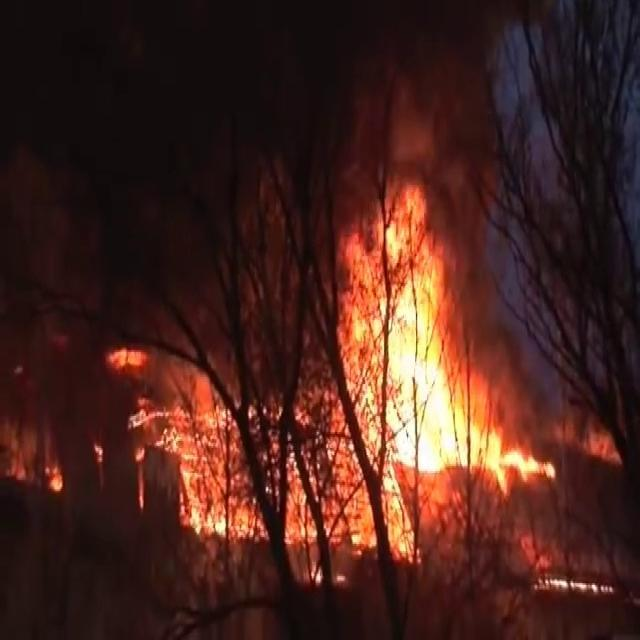Fire: (339, 178, 526, 524), (137, 334, 260, 536)
